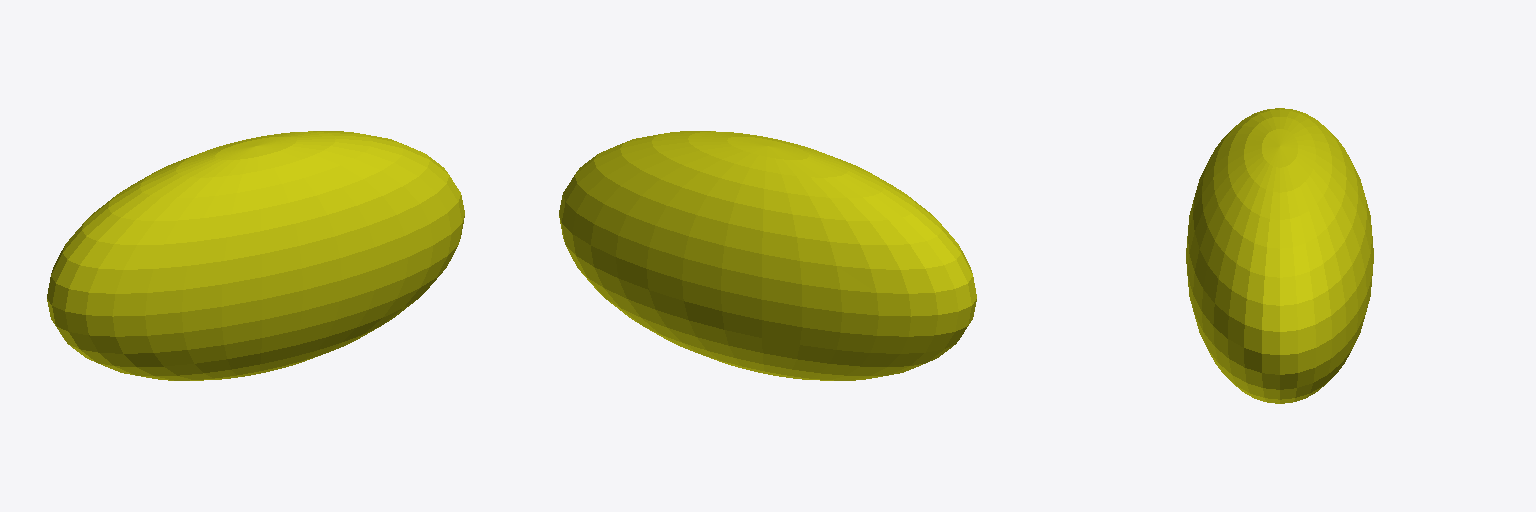
File: moya_aircon_y.obj
3 renders of one model, left to right at view 1: azimuth 30°, elevation 25°; view 2: azimuth 150°, elevation 25°; view 3: azimuth 270°, elevation 25°, orthographic.
Visible parts, largest first — view 1: Sphere_Sphere.000_Sphere_Sphere.003; view 2: Sphere_Sphere.000_Sphere_Sphere.003; view 3: Sphere_Sphere.000_Sphere_Sphere.003.
Boxes of the visible parts, x1,y1,x2,y2 form: Sphere_Sphere.000_Sphere_Sphere.003: [47, 131, 464, 380]; Sphere_Sphere.000_Sphere_Sphere.003: [559, 131, 976, 380]; Sphere_Sphere.000_Sphere_Sphere.003: [1186, 108, 1373, 403].
Bounding box in the file's own units: 0.9189 × 0.4726 × 0.3675.